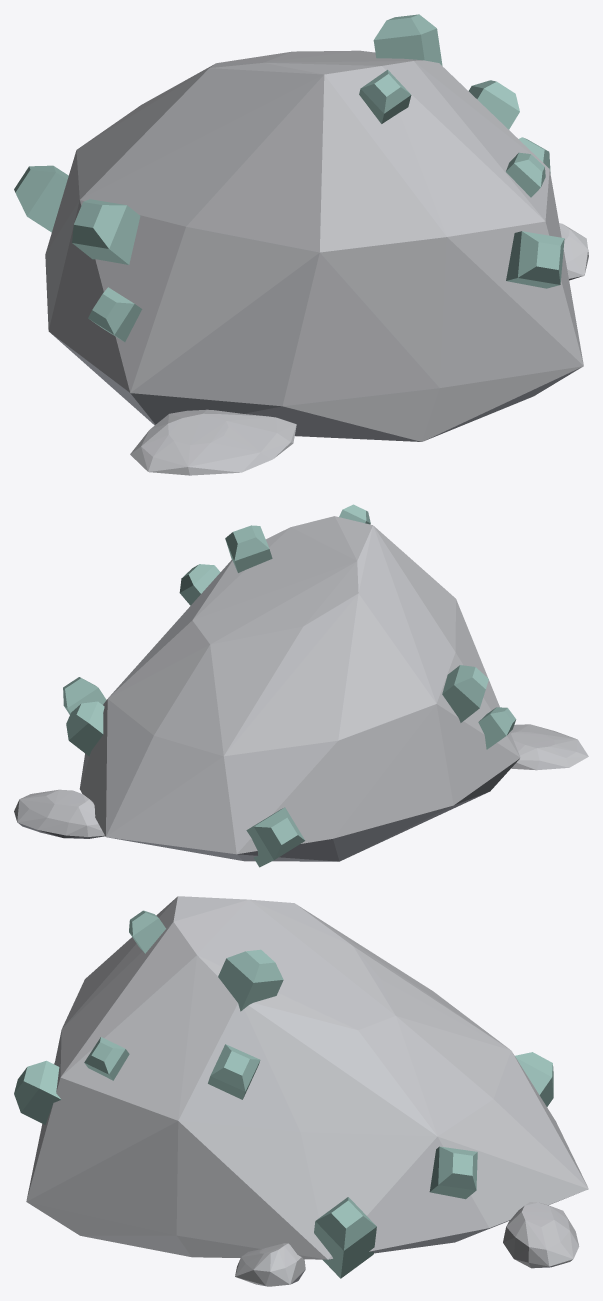
Rendered from SM_MR_Crystal_Medium_06.fbx.
3 views of the same model, one above another, from view 1: azimuth 30°, elevation 25°; view 2: azimuth 150°, elevation 25°; view 3: azimuth 270°, elevation 25° (orthographic). The views are drawn at different scales.
Parts seen in each view (by area): view 1: SM_MR_Crystal_Medium_06; view 2: SM_MR_Crystal_Medium_06; view 3: SM_MR_Crystal_Medium_06.
Boxes of the visible parts, x1,y1,x2,y2 form: SM_MR_Crystal_Medium_06: [14, 14, 588, 475]; SM_MR_Crystal_Medium_06: [14, 504, 588, 867]; SM_MR_Crystal_Medium_06: [14, 896, 588, 1286].
Bounding box in the file's own units: 1.11 × 1.15 × 0.6151.
